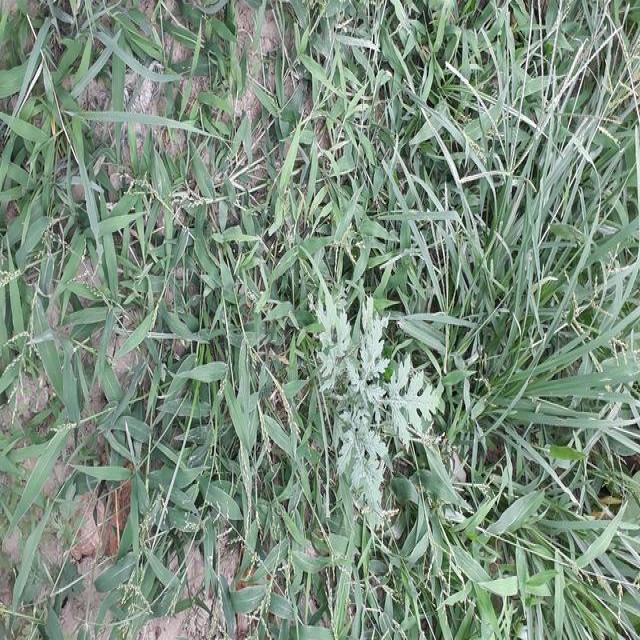weed: (283, 9, 640, 640), (18, 207, 279, 640)
